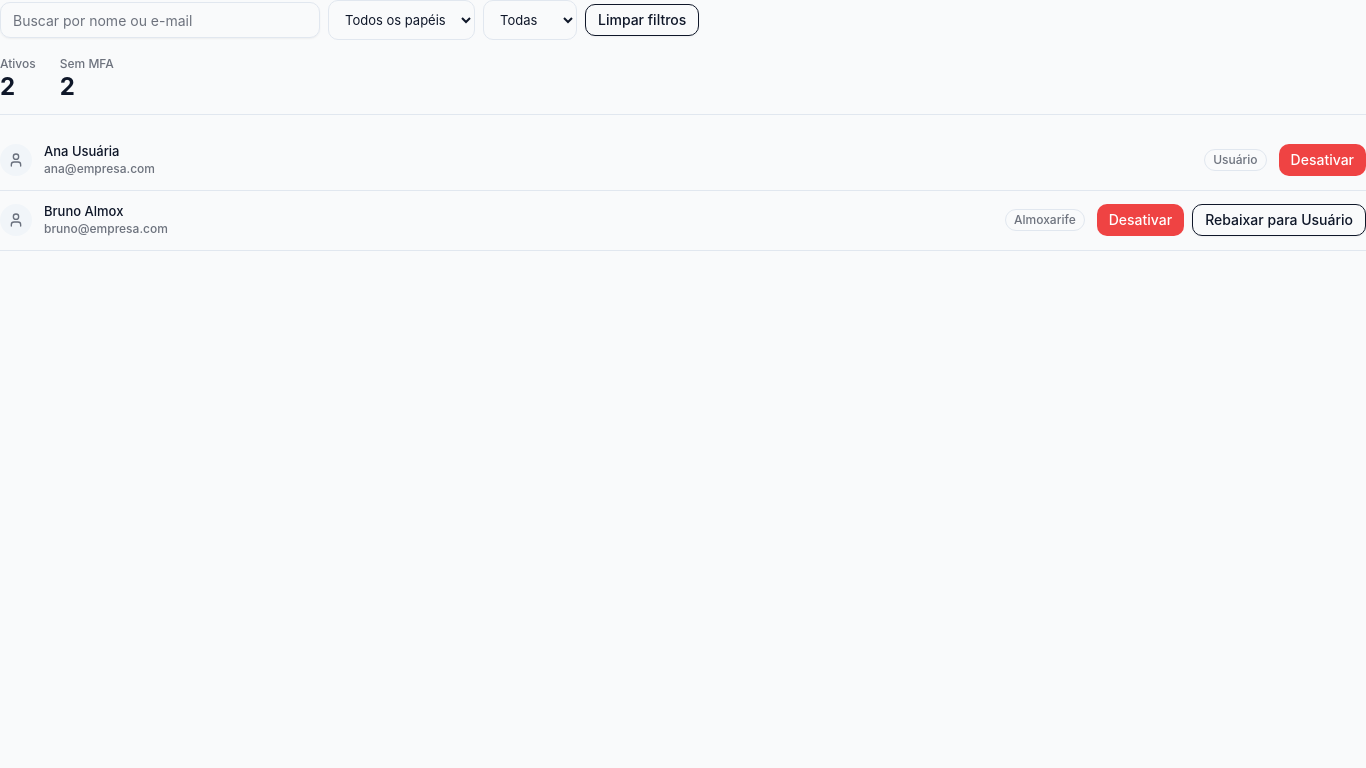
Test: GestaoUsuariosSection › papel filtrado que some da lista após recarga volta a "todos"
Expected: the text "Ana Usuária" is shown, [44,143,120,159]
Select "Almoxarife" in the dropdown named "Papel": (402, 20) [328,0,475,40]
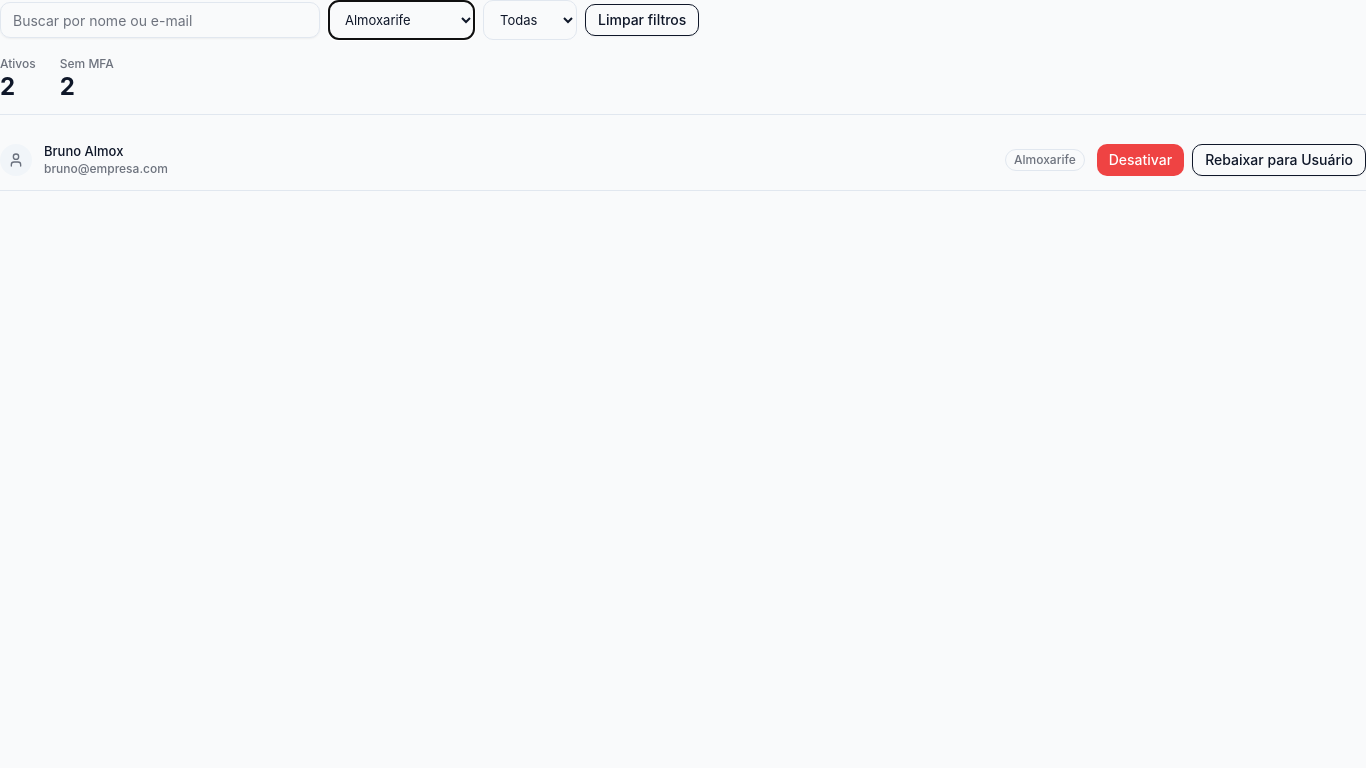
Expected: the text "Ana Usuária" is gone
Click the button with aria-label "Desativar conta de Bruno Almox": click(1140, 160) [1097,144,1184,176]
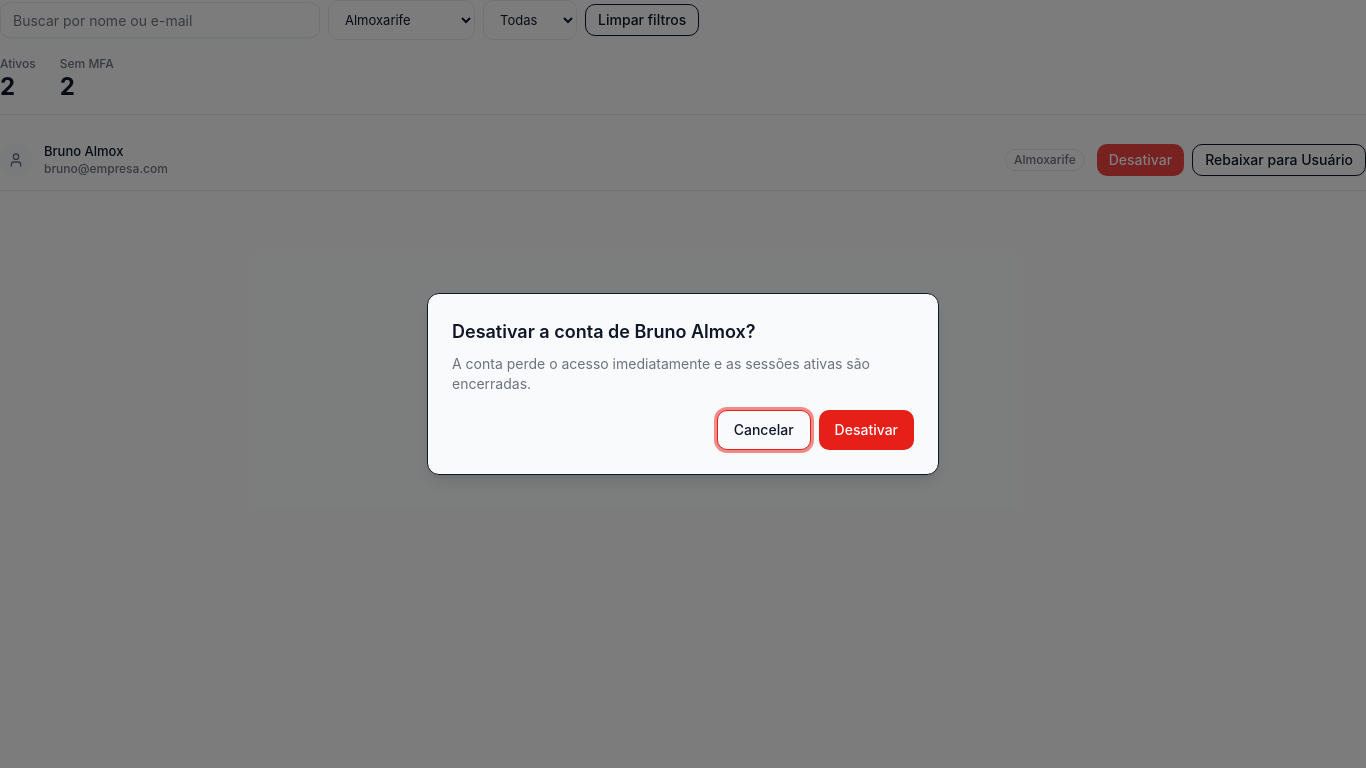
Click the button "Desativar": click(866, 430) [819,410,914,450]
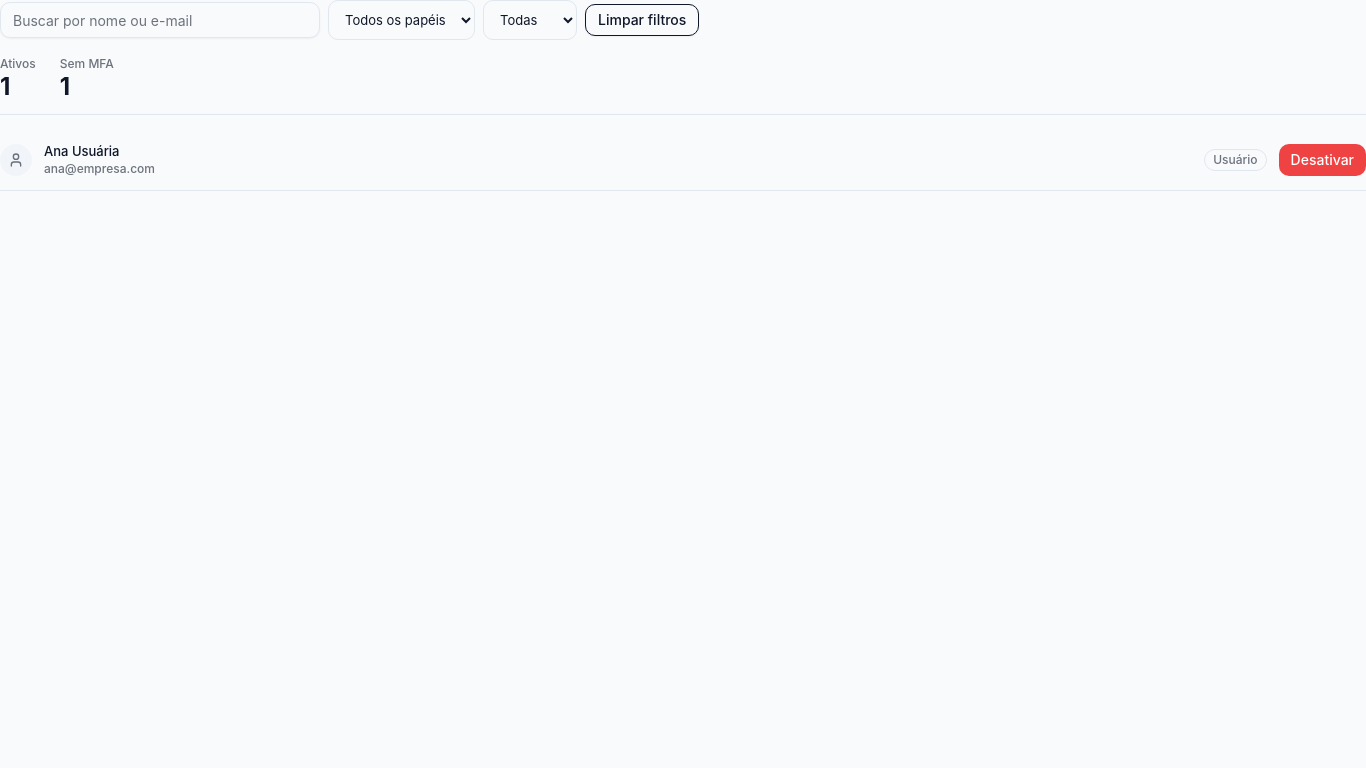
Expected: the text "Ana Usuária" is shown, [44,143,120,159]
